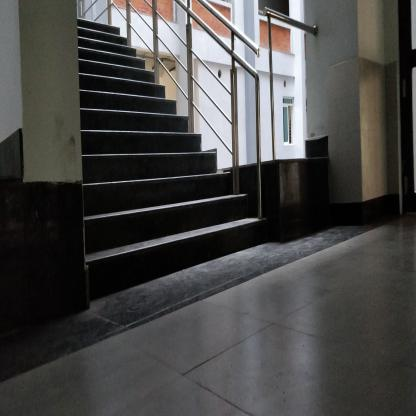stairs: (89, 120, 193, 306)
